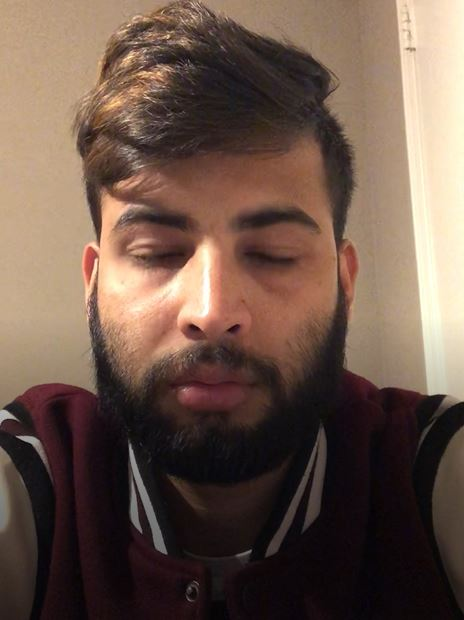Sleeping: (101, 215, 336, 289)
